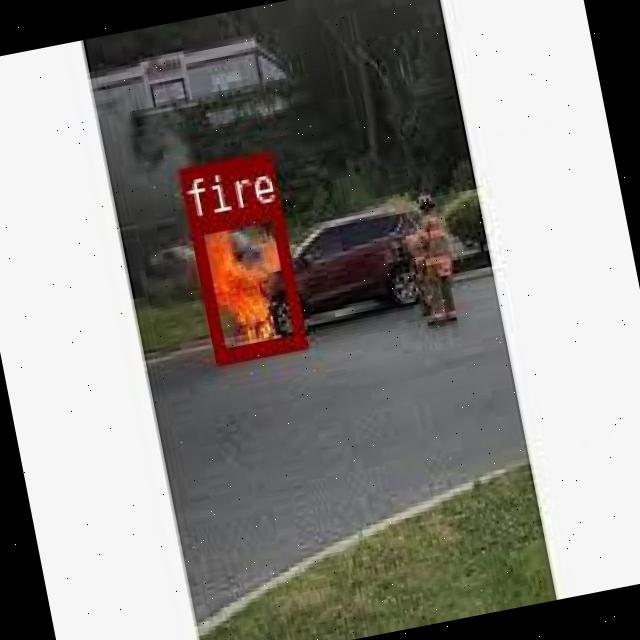fire: (186, 201, 306, 364)
